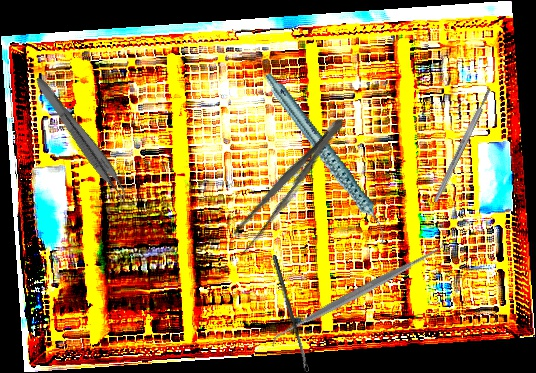Dressing Forceps: (223, 110, 353, 261)
Handpiece: (263, 54, 391, 262)
Scalpel Handle: (431, 86, 494, 204)
Spatula Surgical: (264, 236, 451, 351)
Surgical Spoon: (271, 254, 310, 373)
Tissue Forceps: (26, 74, 137, 208)
